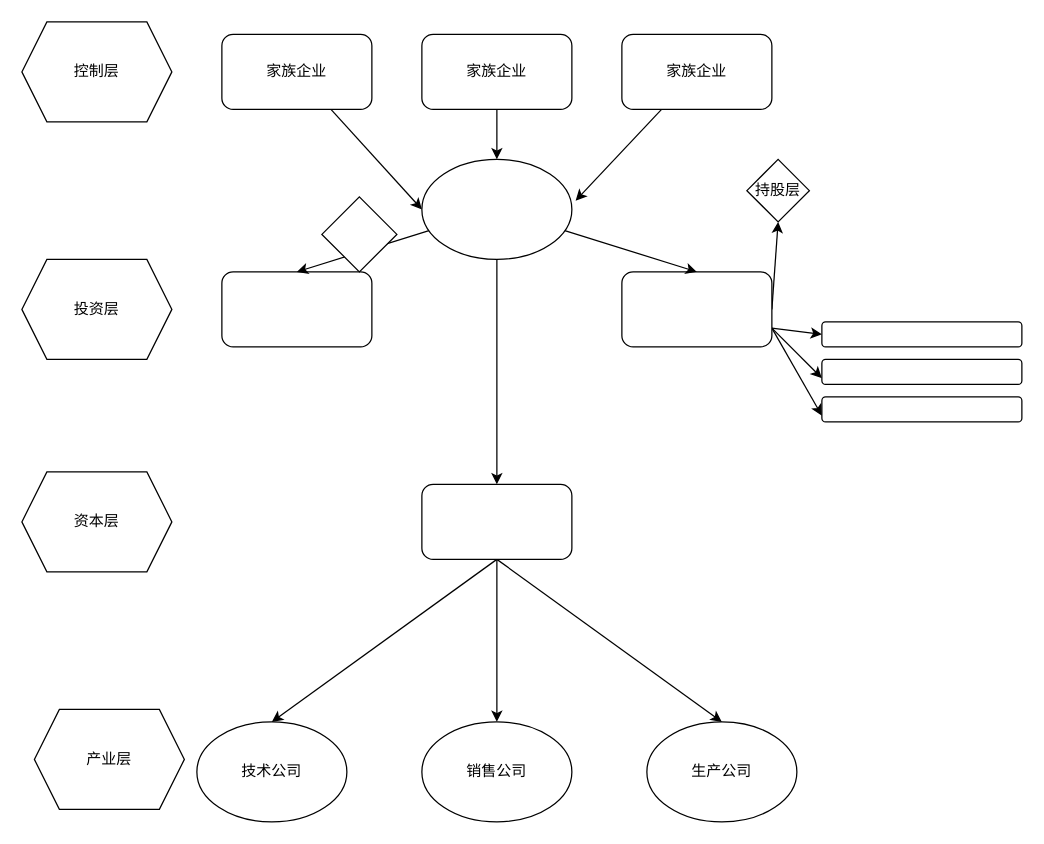
Some shapes in this 1044 by 844 pixel diagram are drawn without their labels. Here are the shapes that lost their labels. From the top down, the centre of each, then its label:
At point (296, 309): "投资管理有限公司".
At point (696, 309): "有限合伙企业".
At point (496, 521): "投资合伙企业".
